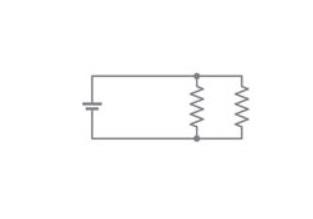resistor: (226, 72, 255, 139), (181, 75, 209, 132)
